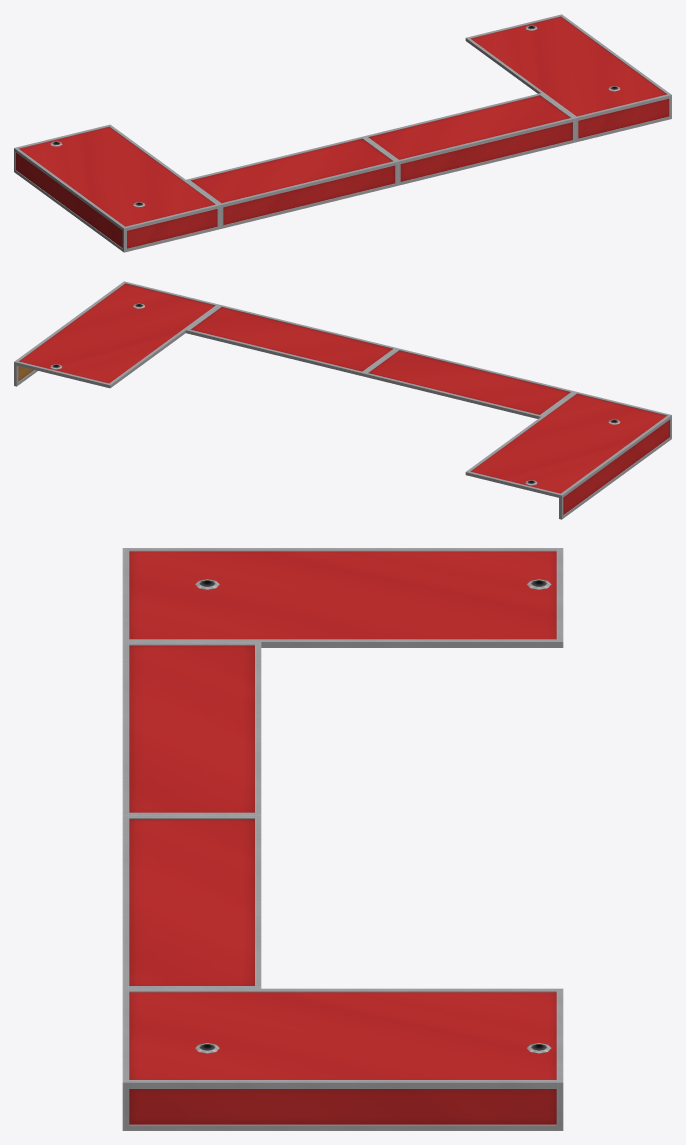
The model's file is jsf_4P_s03_c06_t04_DX.fbx.
3 views of the same model, one above another, from view 1: azimuth 30°, elevation 25°; view 2: azimuth 150°, elevation 25°; view 3: azimuth 270°, elevation 25° (orthographic). The views are drawn at different scales.
Visible parts, largest first — view 1: jsf_4P_s03_c06_t04_DX; view 2: jsf_4P_s03_c06_t04_DX; view 3: jsf_4P_s03_c06_t04_DX.
Boxes of the visible parts, left/top/right/bottom form: jsf_4P_s03_c06_t04_DX: left=14, top=14, right=671, bottom=252; jsf_4P_s03_c06_t04_DX: left=14, top=281, right=671, bottom=519; jsf_4P_s03_c06_t04_DX: left=122, top=548, right=563, bottom=1130.
Size of the model in its own units: 298 by 12.99 by 104.
